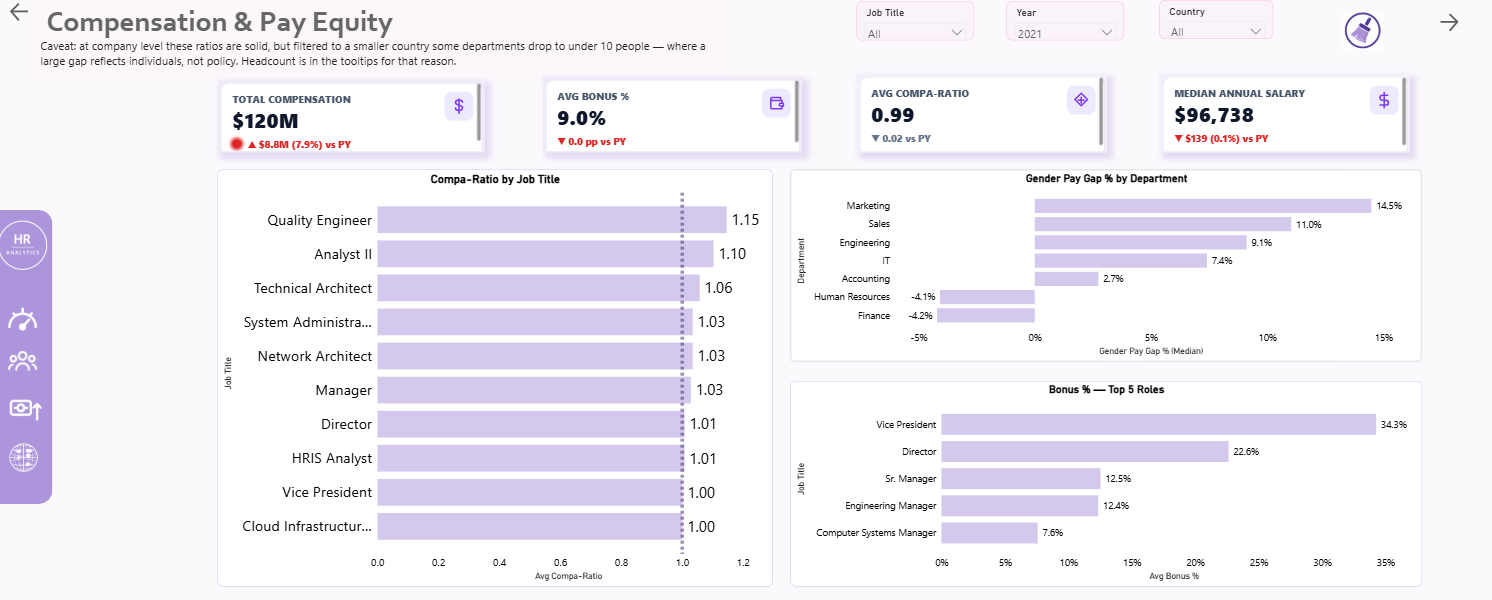

Layout of this report page (visuals, bound fields, positions):
{"tool":"powerbi","page":{"name":" Compensation & Pay Equity","canvas":[2500,1000],"ordinal":3},"visuals":[{"type":"textbox","box":[67.5,0,1142.5,132.5],"z":0},{"type":"slicer","fields":{"Values":["Dim_Date.Year"]},"box":[1682.5,2.5,196.2,64.6],"z":1000},{"type":"slicer","fields":{"Values":["Dim_Location.Country"]},"box":[1937.5,0,189.1,64.6],"z":2000},{"type":"clusteredBarChart","title":"Bonus % — Top 5 Roles","fields":{"Category":["Dim_Job.Job Title"],"Y":["Fact_Employees.Avg Bonus %"]},"box":[1322.5,635,1052.5,342.5],"z":3000},{"type":"htmlContent443BE3AD55E043BF878BED274D3A6855","fields":{"sampling":["Fact_Employees.Total Annual Salary"],"content":["Fact_Employees.Total Compensation Card HTML"]},"box":[367.5,132.5,445,122.5],"z":4000},{"type":"image","box":[2212.2,17.3,127.4,67.9],"z":5000},{"type":"htmlContent443BE3AD55E043BF878BED274D3A6865","fields":{"content":["Fact_Employees.Median Annual Salary Card HTML"]},"box":[1937.5,122.5,417.5,132.5],"z":6000},{"type":"htmlContent443BE3AD55E043BF878BED274D3A6865","fields":{"content":["Fact_Employees.Avg Bonus % Card HTML"]},"box":[910,127.5,432.5,127.5],"z":7000},{"type":"htmlContent443BE3AD55E043BF878BED274D3A6865","fields":{"content":["Fact_Employees.Avg Compa-Ratio Card HTML"]},"box":[1432.5,122.5,417.5,132.5],"z":8000},{"type":"shape","box":[0,350,92.5,490],"z":9000},{"type":"image","box":[0,350,85,117.5],"z":10000},{"type":"image","box":[0,500,85,62.5],"z":11000},{"type":"image","box":[0,575,85.3,52.5],"z":12000},{"type":"image","box":[7.5,652.5,82.5,60],"z":13000},{"type":"slicer","fields":{"Values":["Dim_Job.Job Title"]},"box":[1432.5,2.5,196.2,64.6],"z":14000},{"type":"clusteredBarChart","title":"Gender Pay Gap % by Department","fields":{"Category":["Dim_Job.Department"],"Y":["Fact_Employees.Gender Pay Gap % (Median)"]},"box":[1322.5,282.5,1052.5,320],"z":15000},{"type":"clusteredBarChart","title":"Compa-Ratio by Job Title","fields":{"Category":["Dim_Job.Job Title"],"Y":["Fact_Employees.Avg Compa-Ratio"]},"box":[367.5,282.5,925,695],"z":16000},{"type":"image","box":[7.5,735,75,55],"z":17000},{"type":"actionButton","box":[2400,17.5,100,40],"z":18000},{"type":"actionButton","box":[17.5,0,100,40],"z":19000}]}

Visuals, with their boxes on the page's 2500x1000 design canvas (x1, y1, x2, y2). These are canvas units, not pixel positions in the 1492x600 screenshot, which may show the page scaled, cropped or inside an application window:
textbox: 68:0:1210:132
slicer - Dim_Date.Year: 1682:2:1879:67
slicer - Dim_Location.Country: 1938:0:2127:65
"Bonus % — Top 5 Roles" clusteredBarChart: 1322:635:2375:978
htmlContent443BE3AD55E043BF878BED274D3A6855 - Fact_Employees.Total Annual Salary x Fact_Employees.Total Compensation Card HTML: 368:132:812:255
image: 2212:17:2340:85
htmlContent443BE3AD55E043BF878BED274D3A6865 - Fact_Employees.Median Annual Salary Card HTML: 1938:122:2355:255
htmlContent443BE3AD55E043BF878BED274D3A6865 - Fact_Employees.Avg Bonus % Card HTML: 910:128:1342:255
htmlContent443BE3AD55E043BF878BED274D3A6865 - Fact_Employees.Avg Compa-Ratio Card HTML: 1432:122:1850:255
shape: 0:350:92:840
image: 0:350:85:468
image: 0:500:85:562
image: 0:575:85:628
image: 8:652:90:712
slicer - Dim_Job.Job Title: 1432:2:1629:67
"Gender Pay Gap % by Department" clusteredBarChart: 1322:282:2375:602
"Compa-Ratio by Job Title" clusteredBarChart: 368:282:1292:978
image: 8:735:82:790
actionButton: 2400:18:2500:58
actionButton: 18:0:118:40
